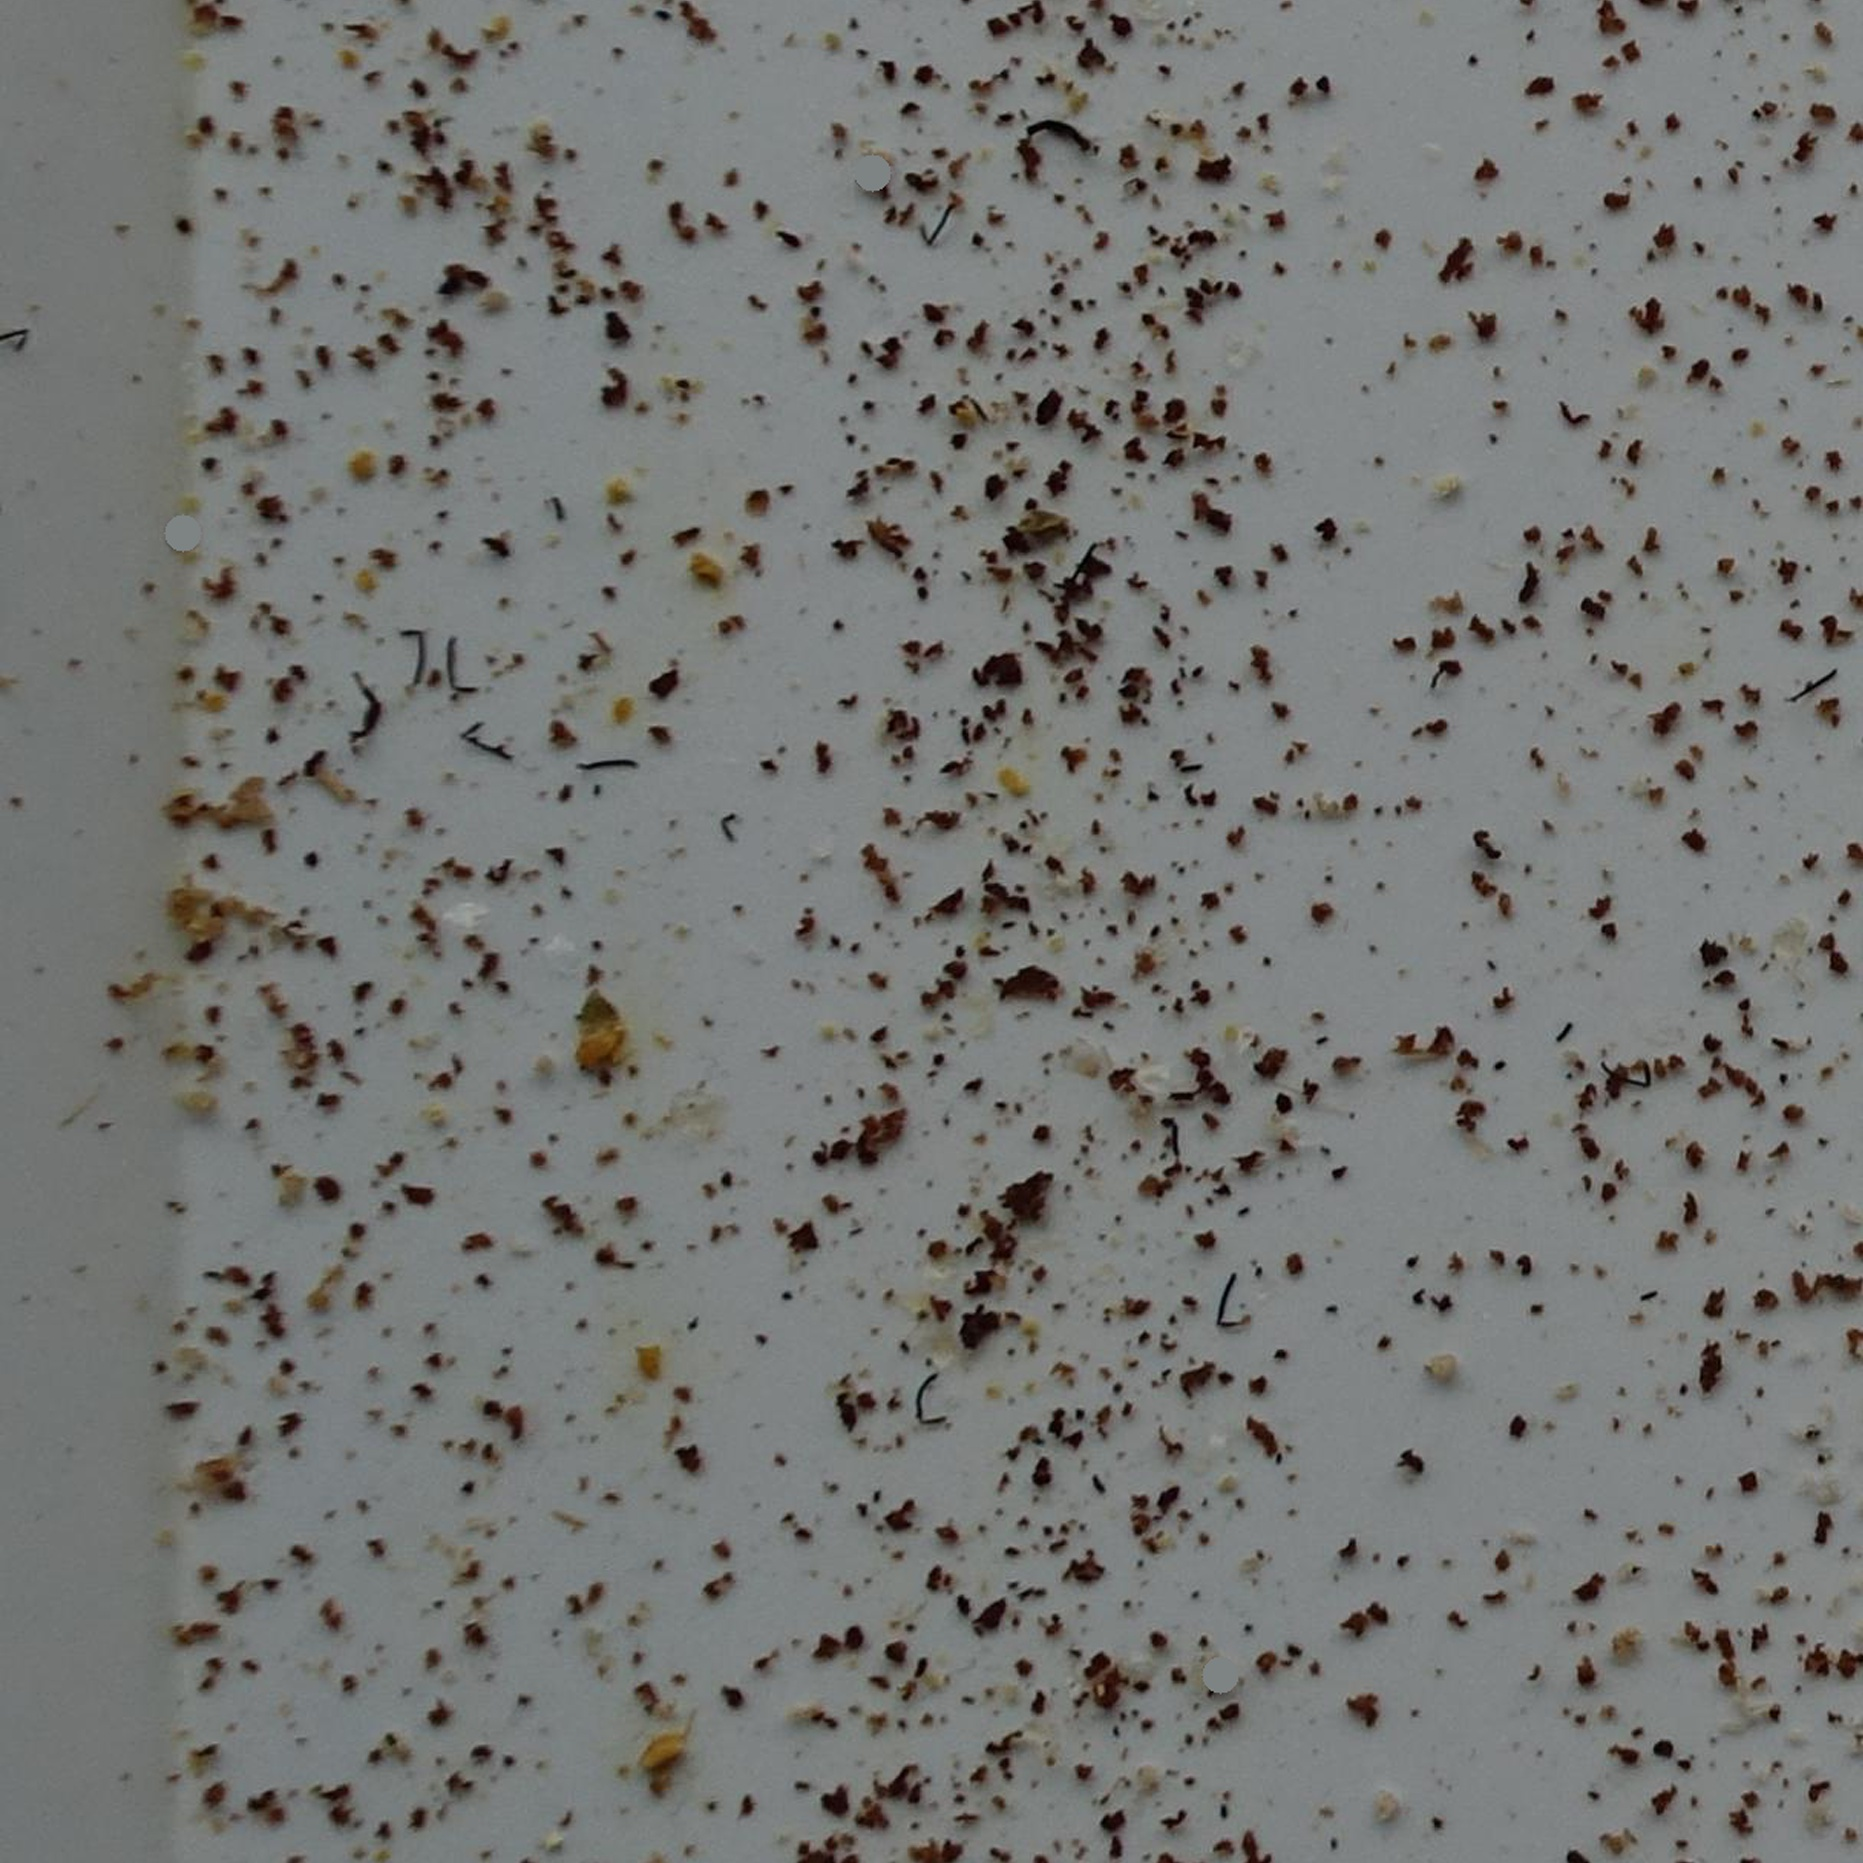Varroa: (316, 1170, 341, 1198)
